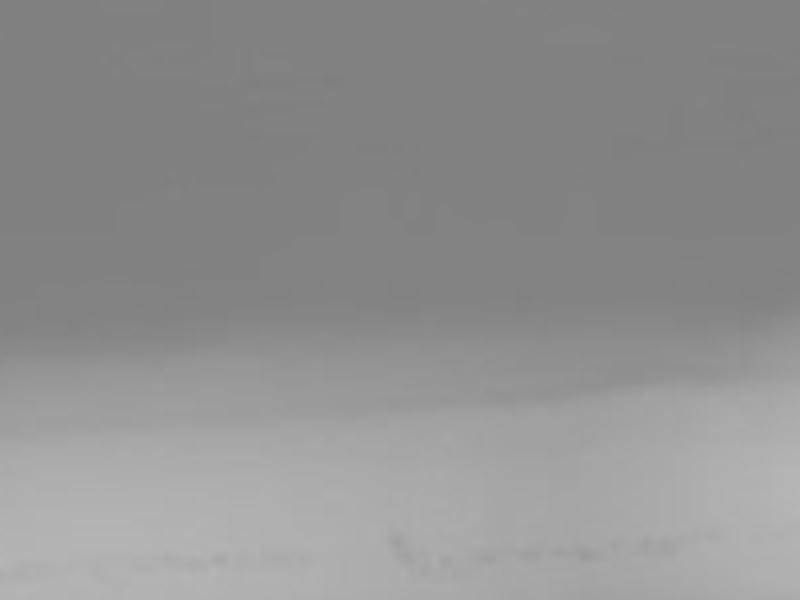defect: (614, 529, 679, 560), (554, 538, 606, 570), (495, 537, 547, 565), (181, 554, 242, 577), (434, 550, 465, 586), (387, 531, 413, 570)
